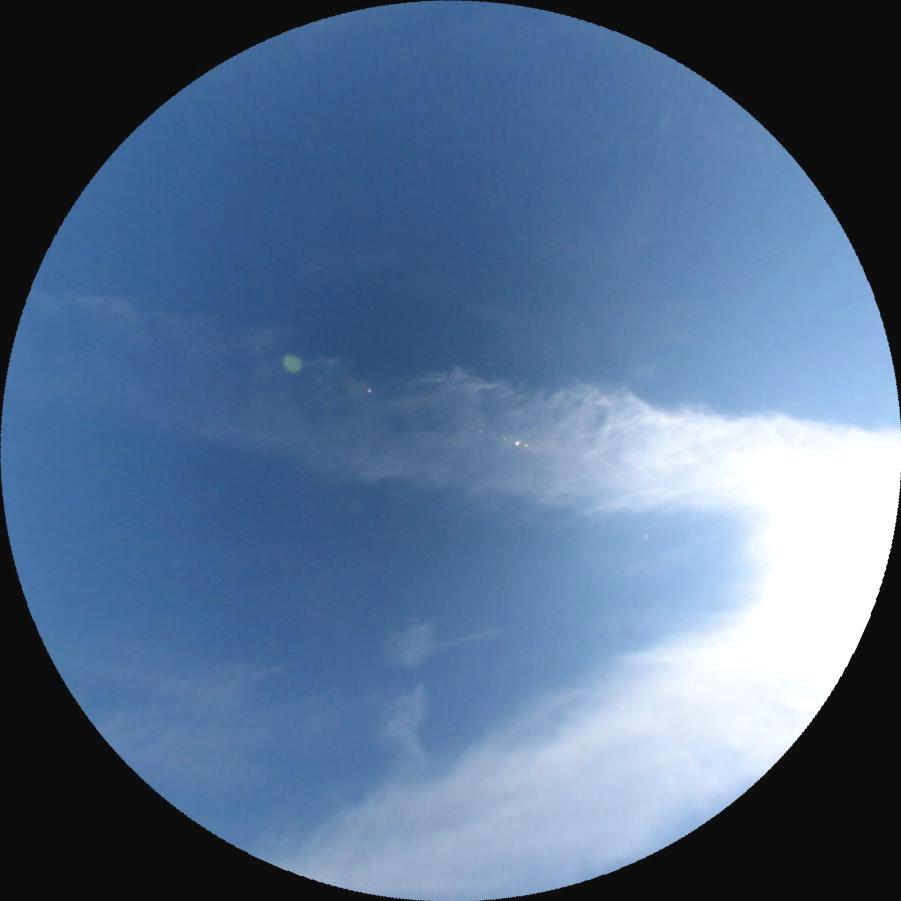contrail veryold: (2, 276, 898, 568), (380, 621, 432, 784)
unknow: (428, 626, 503, 650)
